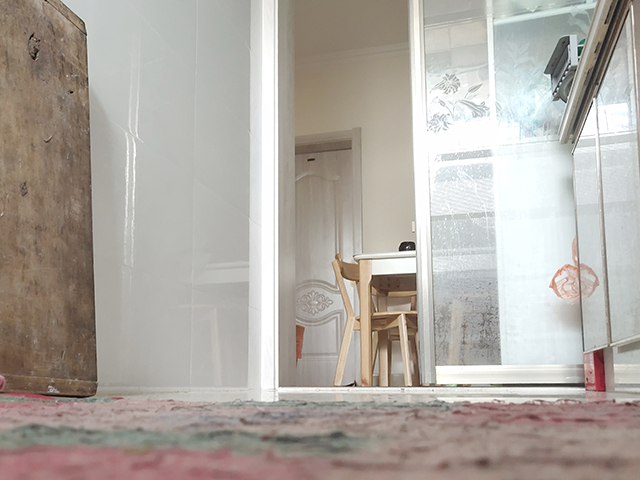cabinet: (555, 1, 640, 398)
carpet: (1, 375, 640, 480)
stool: (332, 249, 421, 389)
table: (351, 250, 419, 390)
